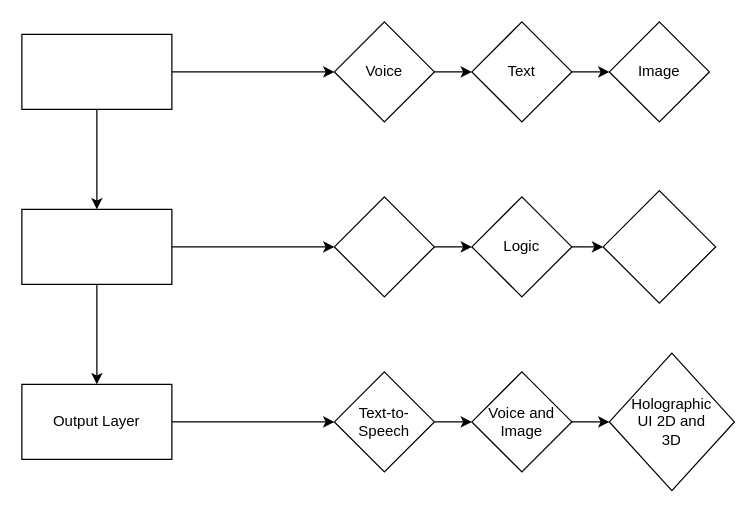
The diagram is 756 pixels wide and 513 high, and some of its shapes have lost their labels. The shapes that lost their labels are listed below. From the top down, each one's centre as x and y in pixels, then its label:
At pixel 96 71: "Input Layer".
At pixel 96 246: "Processing Layer".
At pixel 383 246: "NLP".
At pixel 659 246: "API Decision- Making".
